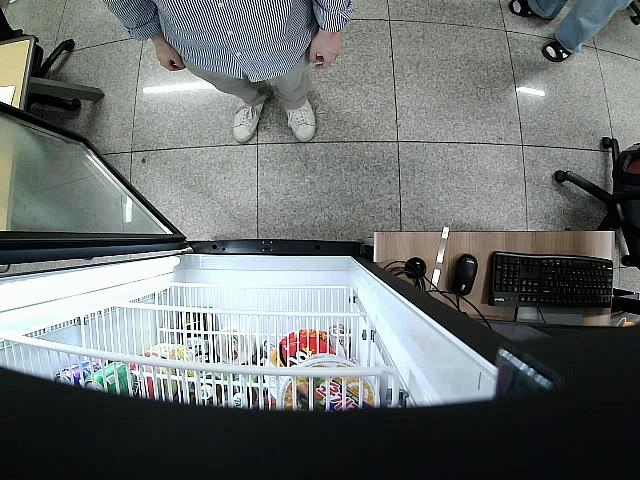00_hand: (307, 31, 343, 69), (153, 41, 188, 72)
